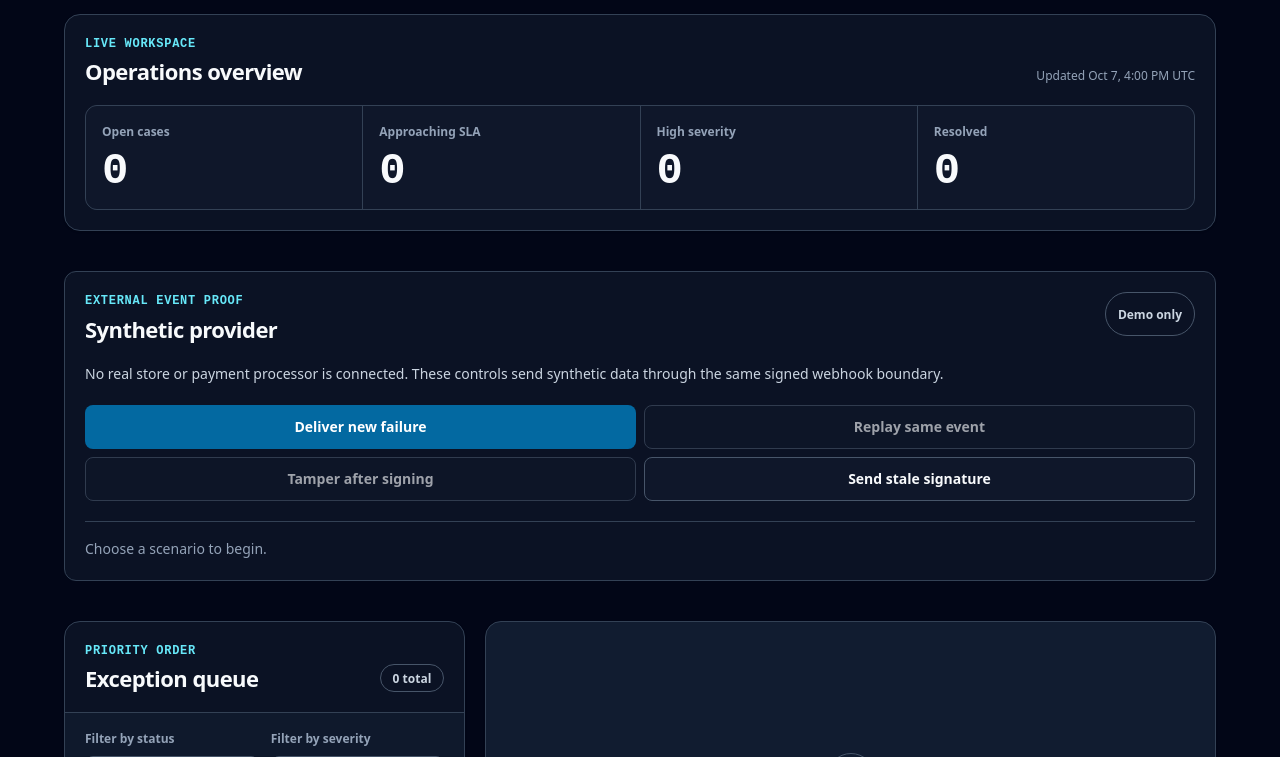
CommerceOps Desk demo identity › drops the fresh webhook cache after switching Manager to Agent and back
(page scrolled)
Check: the button "Replay same event" is disabled, box 644,405 -> 1195,449
Check: the button "Tamper after signing" is disabled, box 85,457 -> 636,501
Click the button "Deliver new failure" at point(360, 427), box 85,405 -> 636,449
(page scrolled)
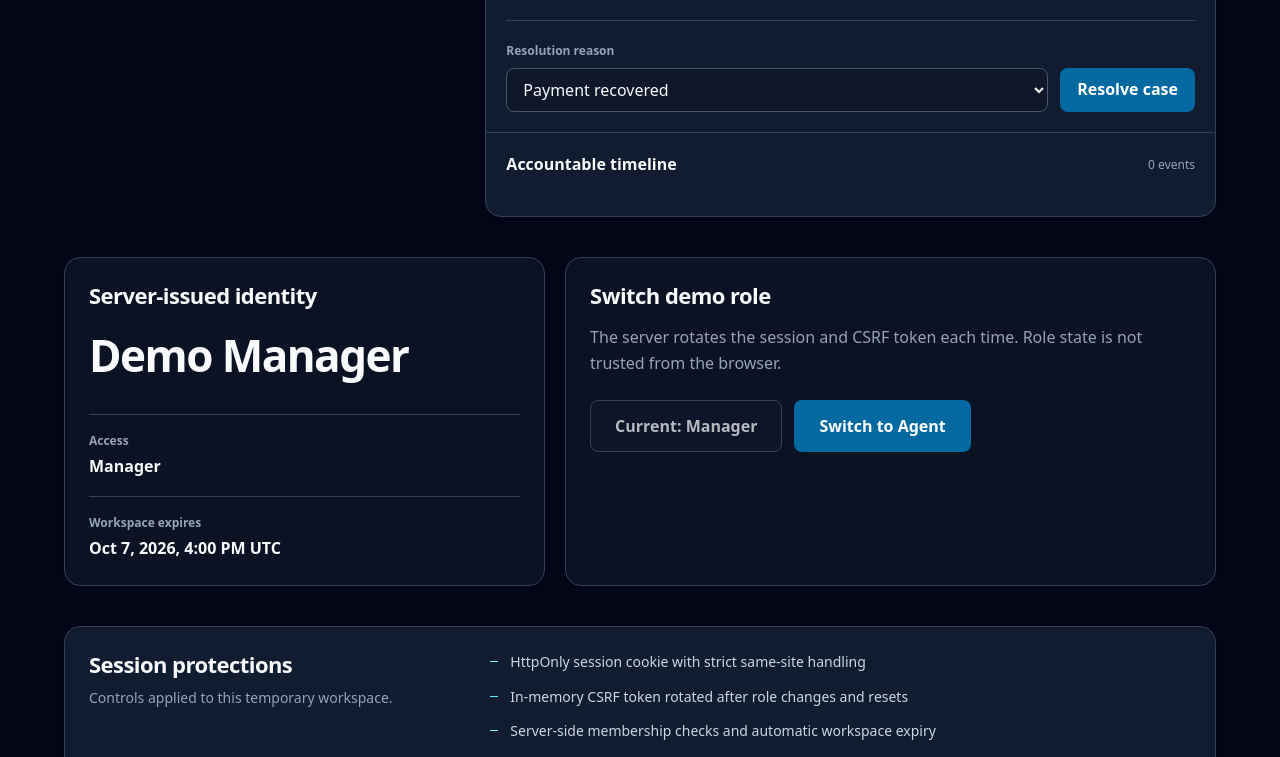
Click the button "Switch to Agent" at point(883, 426), box 794,400 -> 971,452
(page scrolled)
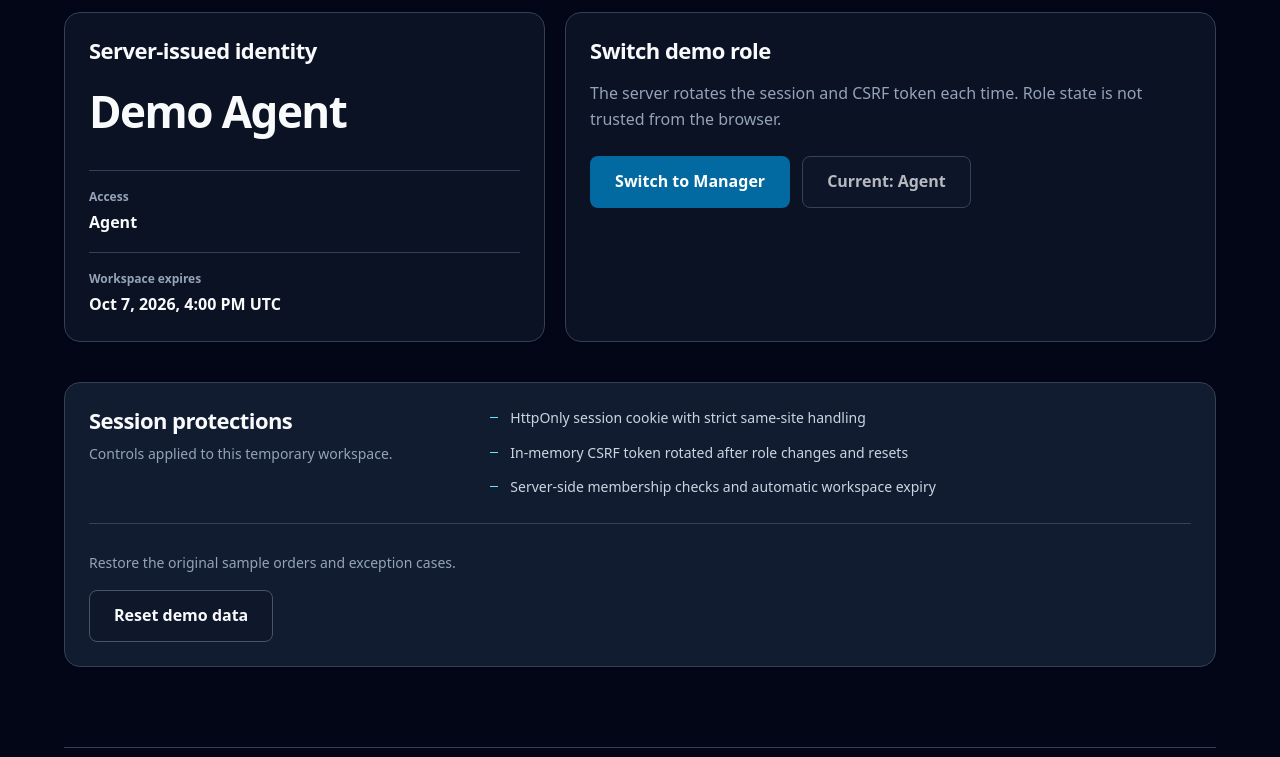
Check: the element "synthetic provider" is not shown
Click the button "Switch to Manager" at point(690, 182), box 590,156 -> 790,208
(page scrolled)
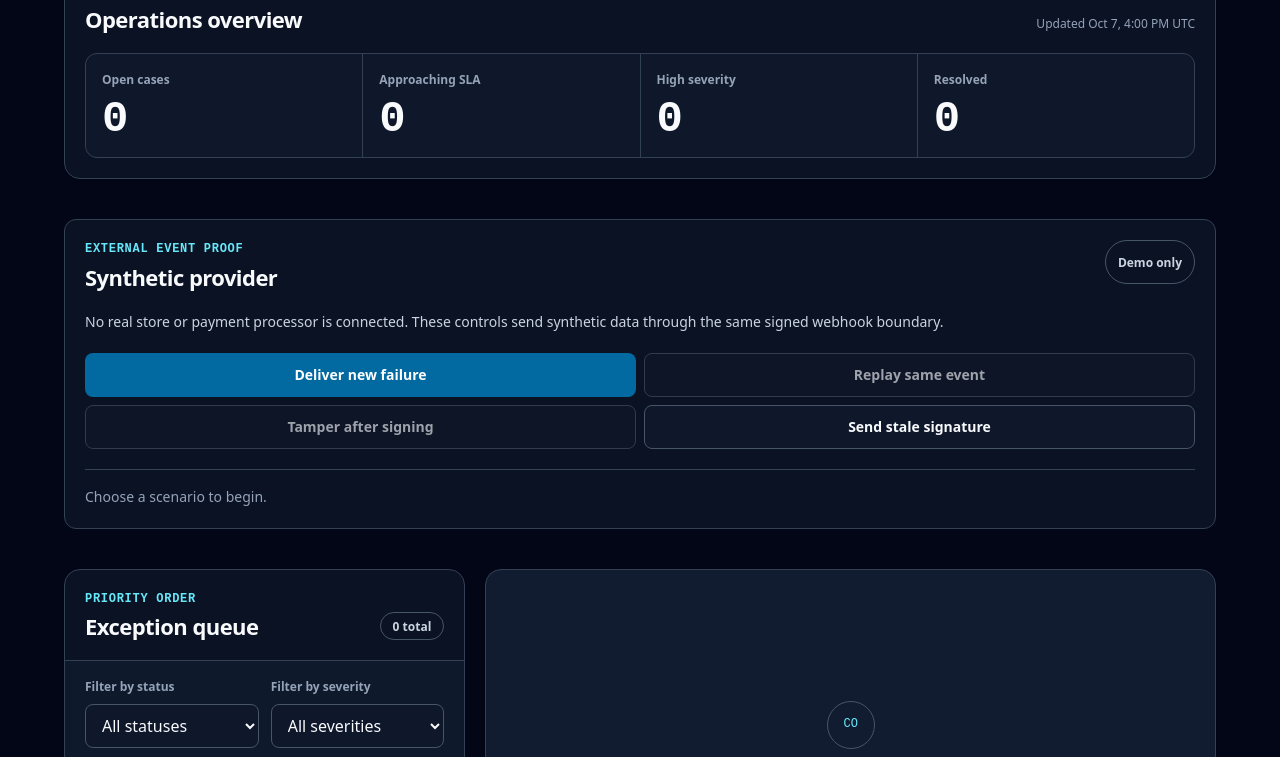
Check: the button "Replay same event" is disabled, box 644,353 -> 1195,397
Check: the button "Tamper after signing" is disabled, box 85,405 -> 636,449
